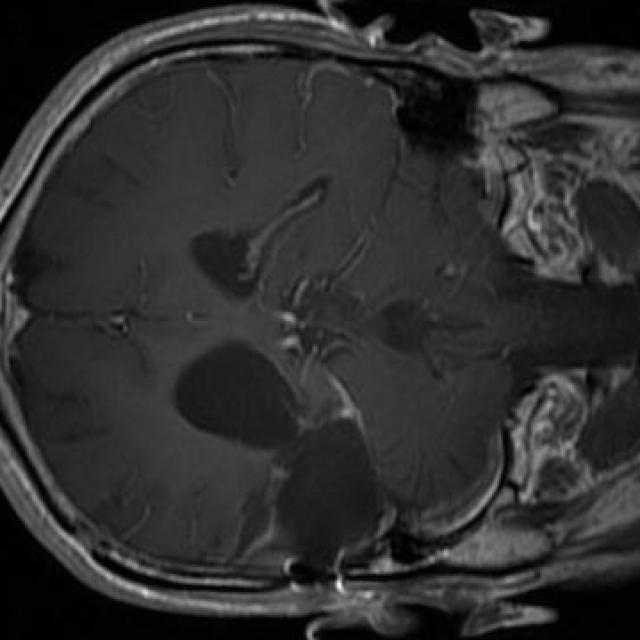glioma: (176, 337, 412, 587)
